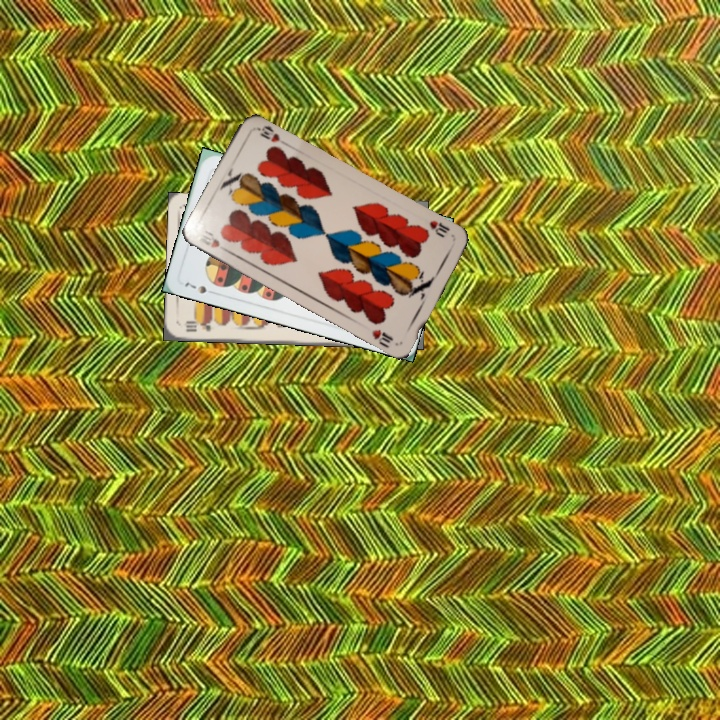E10: (182, 317, 219, 334)
H10: (192, 227, 232, 255), (425, 216, 453, 240)
S7: (181, 277, 209, 296)
